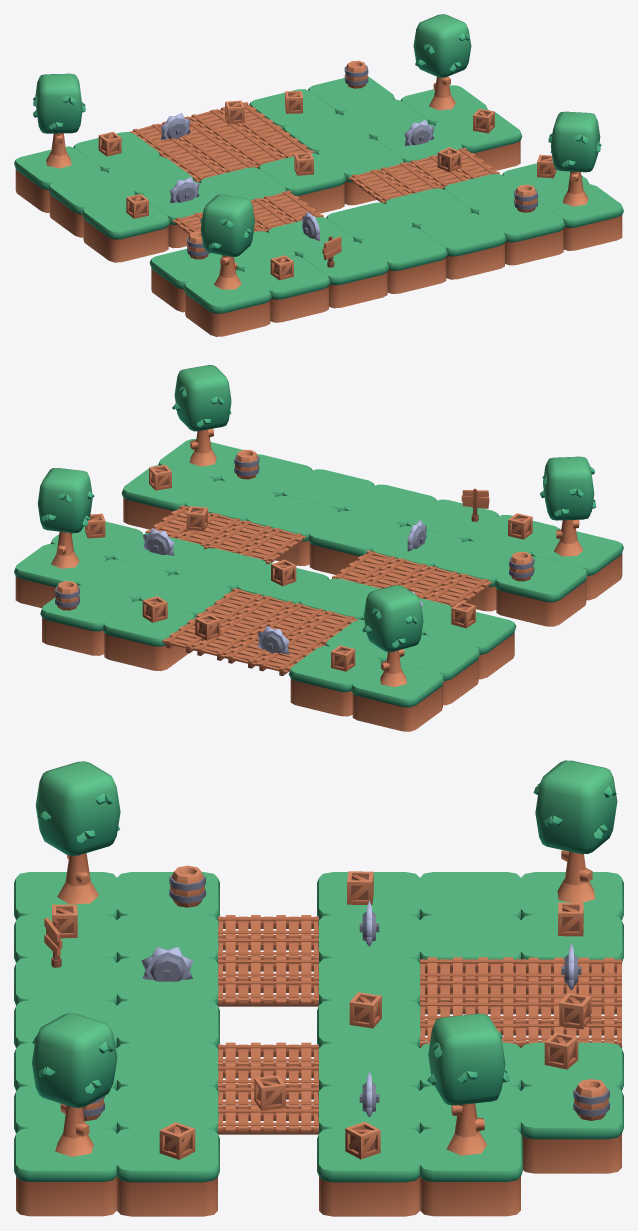
File: level3.glb
3 renders of one model, top to bottom at view 1: azimuth 30°, elevation 25°; view 2: azimuth 150°, elevation 25°; view 3: azimuth 270°, elevation 25°, orthographic. The views are drawn at different scales.
Parts seen in each view (by area): view 1: Block_24, Block_10, Block_27, Block_28, Tree_02, Block_26, Block_29, Tree_03, Block_30, Block_25, Tree_04, Tree_01 (+55 smaller); view 2: Block_17, Block_01, Block_03, Tree_01, Tree_04, Tree_03, Tree_02, Block_04, Block_02, Block_20, Block_05, Block_23 (+59 smaller); view 3: Block_09, Block_30, Block_16, Block_23, Tree_04, Tree_03, Tree_01, Block_04, Tree_02, Block_06, Block_21, Block_20 (+65 smaller).
Part boxes in pixels (x1,y1,x2,y2): Block_24: (183,270,271,336); Block_10: (82,197,170,262); Block_27: (360,227,447,293); Block_28: (419,213,506,279); Tree_02: (413,14,471,110); Block_26: (301,241,389,308); Block_29: (477,200,565,265); Tree_03: (200,194,254,289); Block_30: (537,184,623,250); Block_25: (243,256,330,322); Tree_04: (548,111,601,206); Tree_01: (33,73,85,168); Block_17: (494,556,587,626); Block_01: (351,663,444,731); Block_03: (102,600,195,670); Tree_01: (362,585,423,687); Tree_04: (172,365,231,466); Tree_03: (540,456,596,556); Tree_02: (37,468,94,568); Block_04: (40,585,133,655); Block_02: (288,646,381,716); Block_20: (308,510,400,574); Block_05: (400,635,480,705); Block_23: (121,465,214,529); Block_09: (420,1128,522,1216); Block_30: (14,1128,116,1216); Block_16: (317,1128,419,1216); Block_23: (117,1128,219,1216); Tree_04: (32,1013,117,1156); Tree_03: (35,761,120,904); Tree_01: (533,760,617,902); Block_04: (521,1085,623,1173); Tree_02: (427,1013,509,1155); Block_06: (420,914,520,998); Block_21: (117,1042,218,1090); Block_20: (117,1000,219,1047).
Size of what is drawn, in the model's own units: 14.08 by 3.7 by 12.08.
1 material, 1 textured.
